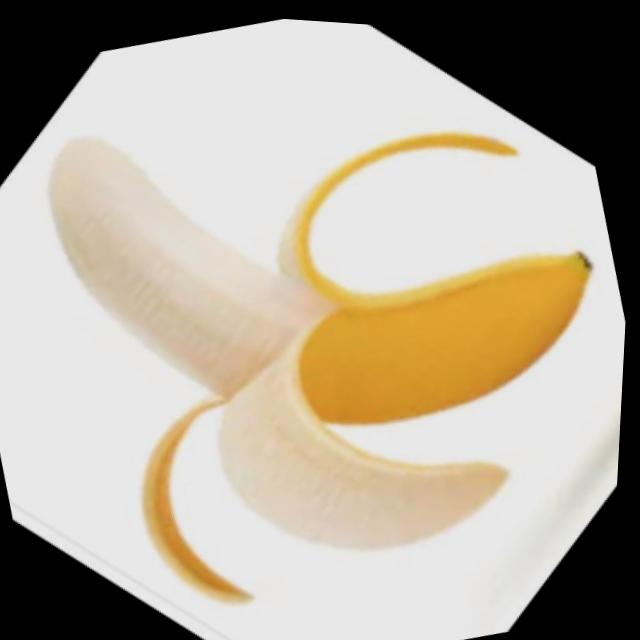Banana: (17, 15, 639, 640)
